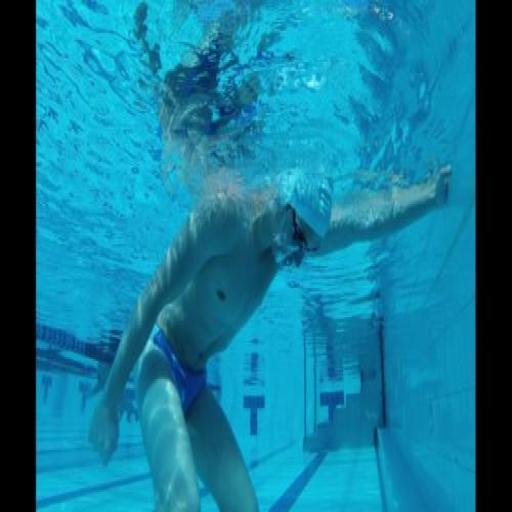swimming: (53, 118, 467, 512)
